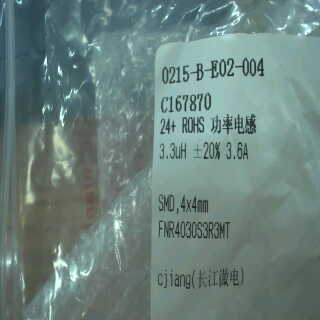3.3uH: (152, 142, 191, 161)
